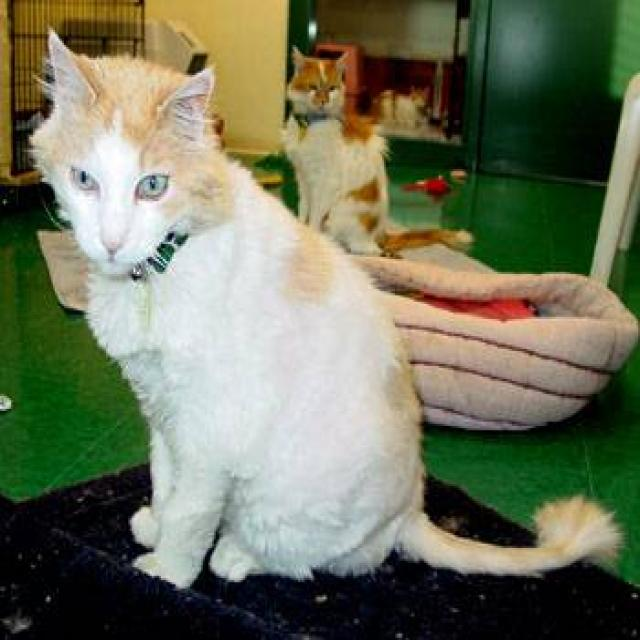cat: (24, 24, 625, 588), (280, 43, 473, 257)
